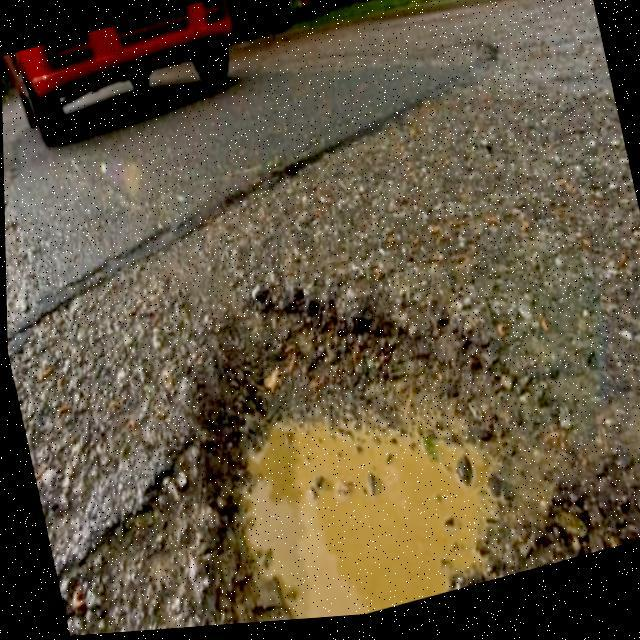pothole: (170, 320, 535, 630)
